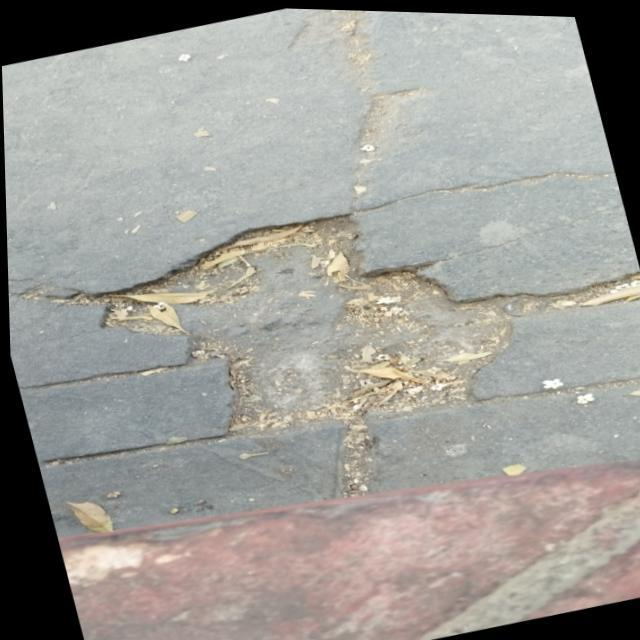hole: (51, 165, 544, 485)
